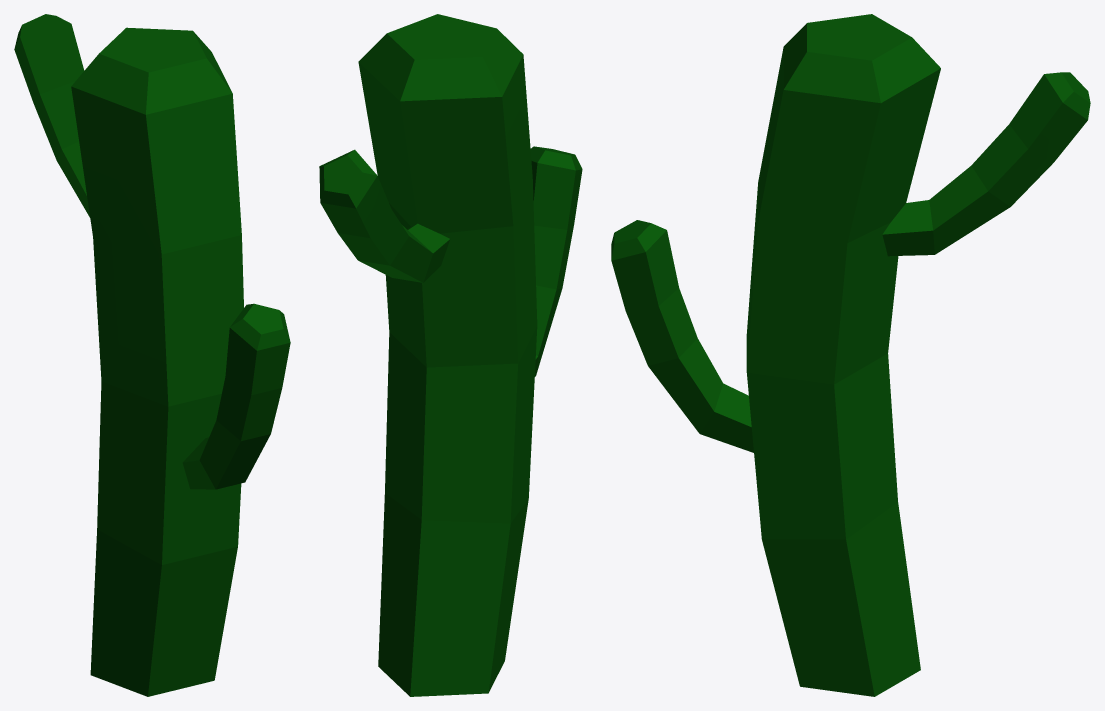
Rendered from cact2color.fbx.
3 renders of one model, left to right at view 1: azimuth 30°, elevation 25°; view 2: azimuth 150°, elevation 25°; view 3: azimuth 270°, elevation 25°, orthographic. The views are drawn at different scales.
Visible parts, largest first — view 1: Cylinder.003, Cylinder.004, Cylinder.005; view 2: Cylinder.003, Cylinder.005, Cylinder.004; view 3: Cylinder.003, Cylinder.005, Cylinder.004.
Part boxes in pixels (x1=…): Cylinder.003: x1=71, y1=27, x2=243, y2=696; Cylinder.004: x1=182, y1=303, x2=290, y2=489; Cylinder.005: x1=14, y1=14, x2=90, y2=217; Cylinder.003: x1=358, y1=14, x2=537, y2=696; Cylinder.005: x1=319, y1=149, x2=449, y2=282; Cylinder.004: x1=530, y1=146, x2=582, y2=376; Cylinder.003: x1=746, y1=14, x2=940, y2=696; Cylinder.005: x1=882, y1=72, x2=1090, y2=256; Cylinder.004: x1=611, y1=220, x2=753, y2=452.
Size of the model in its own units: 190 by 802 by 550.
